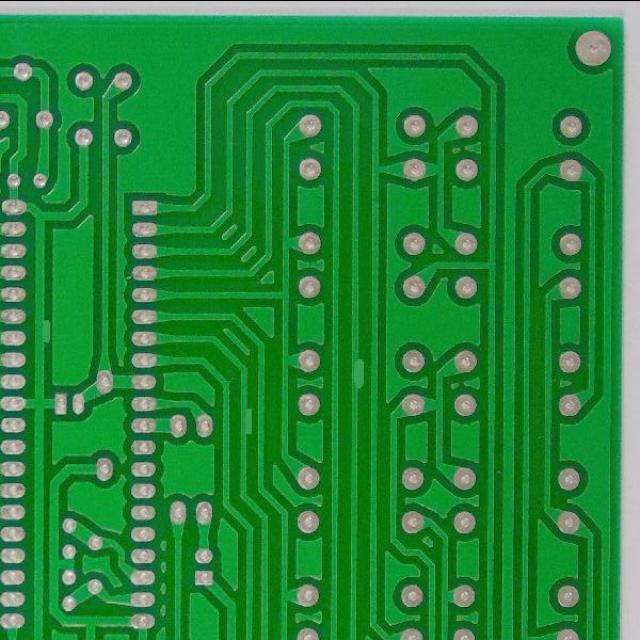Spur: (348, 352, 368, 394), (239, 402, 256, 441), (33, 316, 52, 348)
